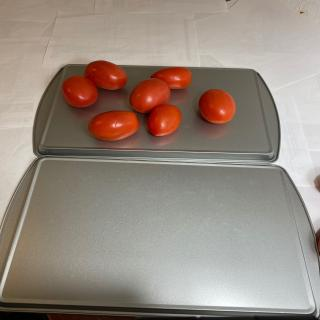Chilli: (60, 60, 236, 141)
Tomato: (89, 110, 140, 141), (129, 78, 171, 114), (198, 88, 236, 124), (84, 60, 127, 90), (62, 76, 98, 108), (148, 104, 182, 136), (150, 67, 192, 89)
